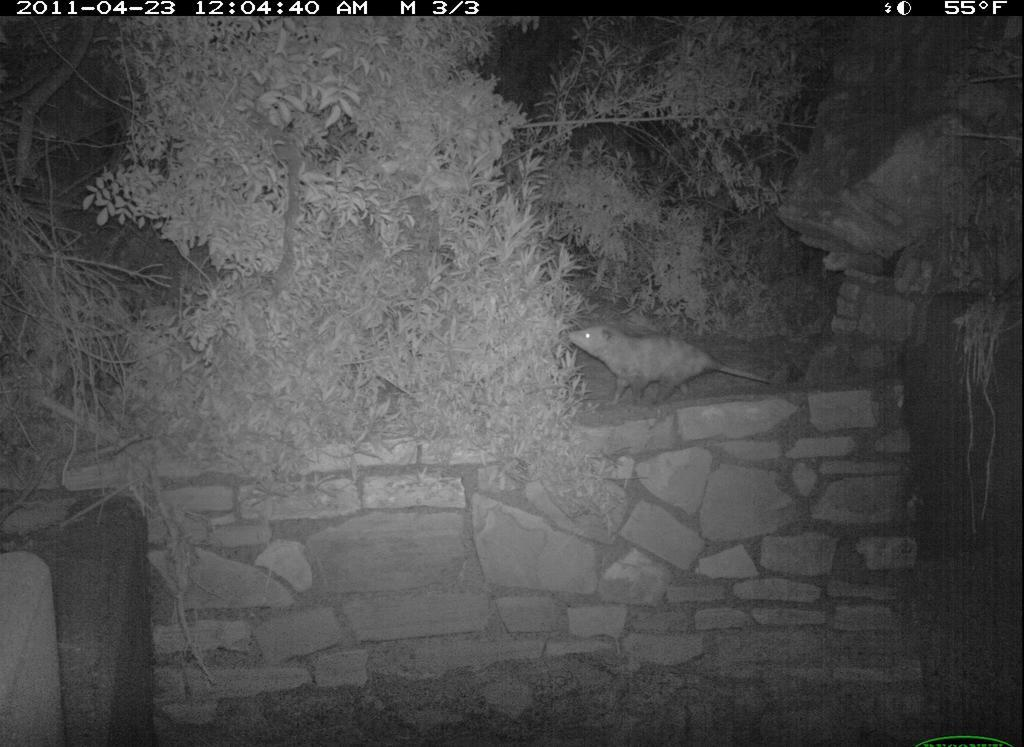opossum: (565, 321, 775, 413)
